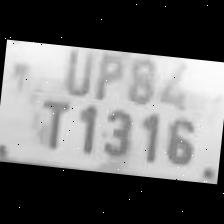1: (131, 104, 165, 166), (68, 98, 102, 157)
3: (94, 102, 135, 159)
4: (154, 56, 198, 110)
6: (160, 109, 200, 169)
8: (120, 52, 159, 107)
P: (88, 49, 128, 102)
T: (28, 92, 73, 153)
U: (55, 46, 94, 96)
